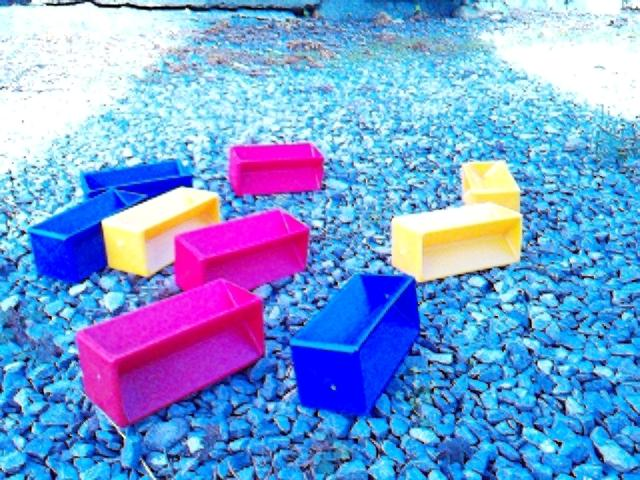blue: (290, 274, 421, 418), (28, 189, 151, 286), (81, 159, 195, 201)
red: (77, 278, 266, 428), (174, 210, 310, 293), (230, 143, 326, 197)
yellow: (100, 186, 222, 279), (392, 202, 524, 284), (462, 161, 522, 215)
